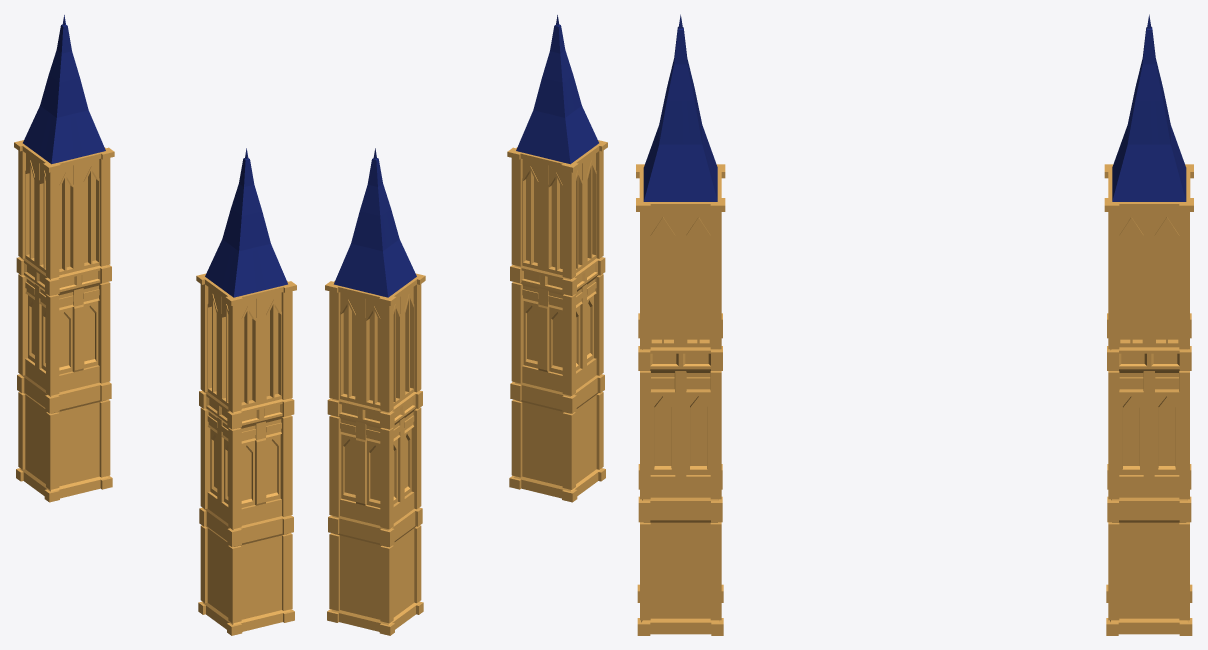
The model's file is tower.fbx.
3 views of the same model, side by side, from view 1: azimuth 30°, elevation 25°; view 2: azimuth 150°, elevation 25°; view 3: azimuth 270°, elevation 25° (orthographic). The views are drawn at different scales.
Visible parts, largest first — view 1: tower; view 2: tower; view 3: tower.
Part boxes in pixels (x1,y1,x2,y2): tower: (14,15,296,635); tower: (325,15,607,635); tower: (636,14,1193,635).
Bounding box in the file's own units: 4.6 × 31.38 × 26.34.
